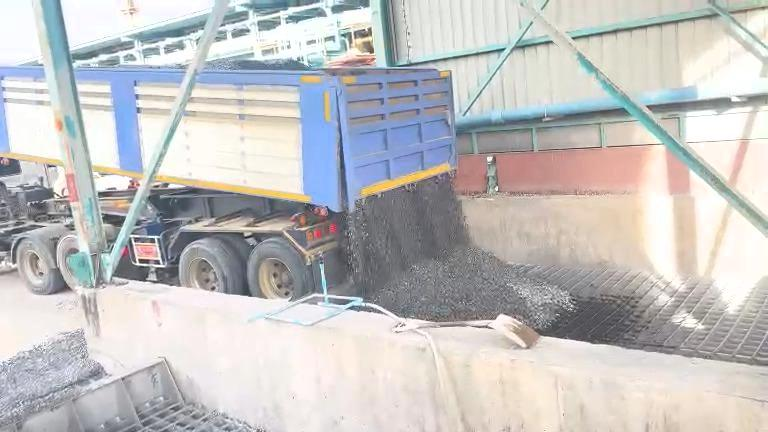gravel: (347, 178, 573, 329), (1, 330, 106, 425), (207, 59, 313, 69)
